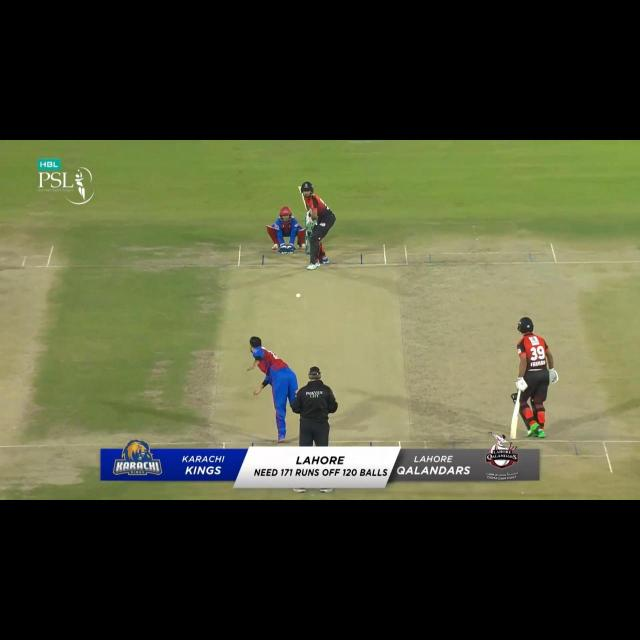bat: (296, 185, 316, 216), (509, 401, 522, 441)
toe: (295, 184, 304, 193), (509, 431, 516, 440)
